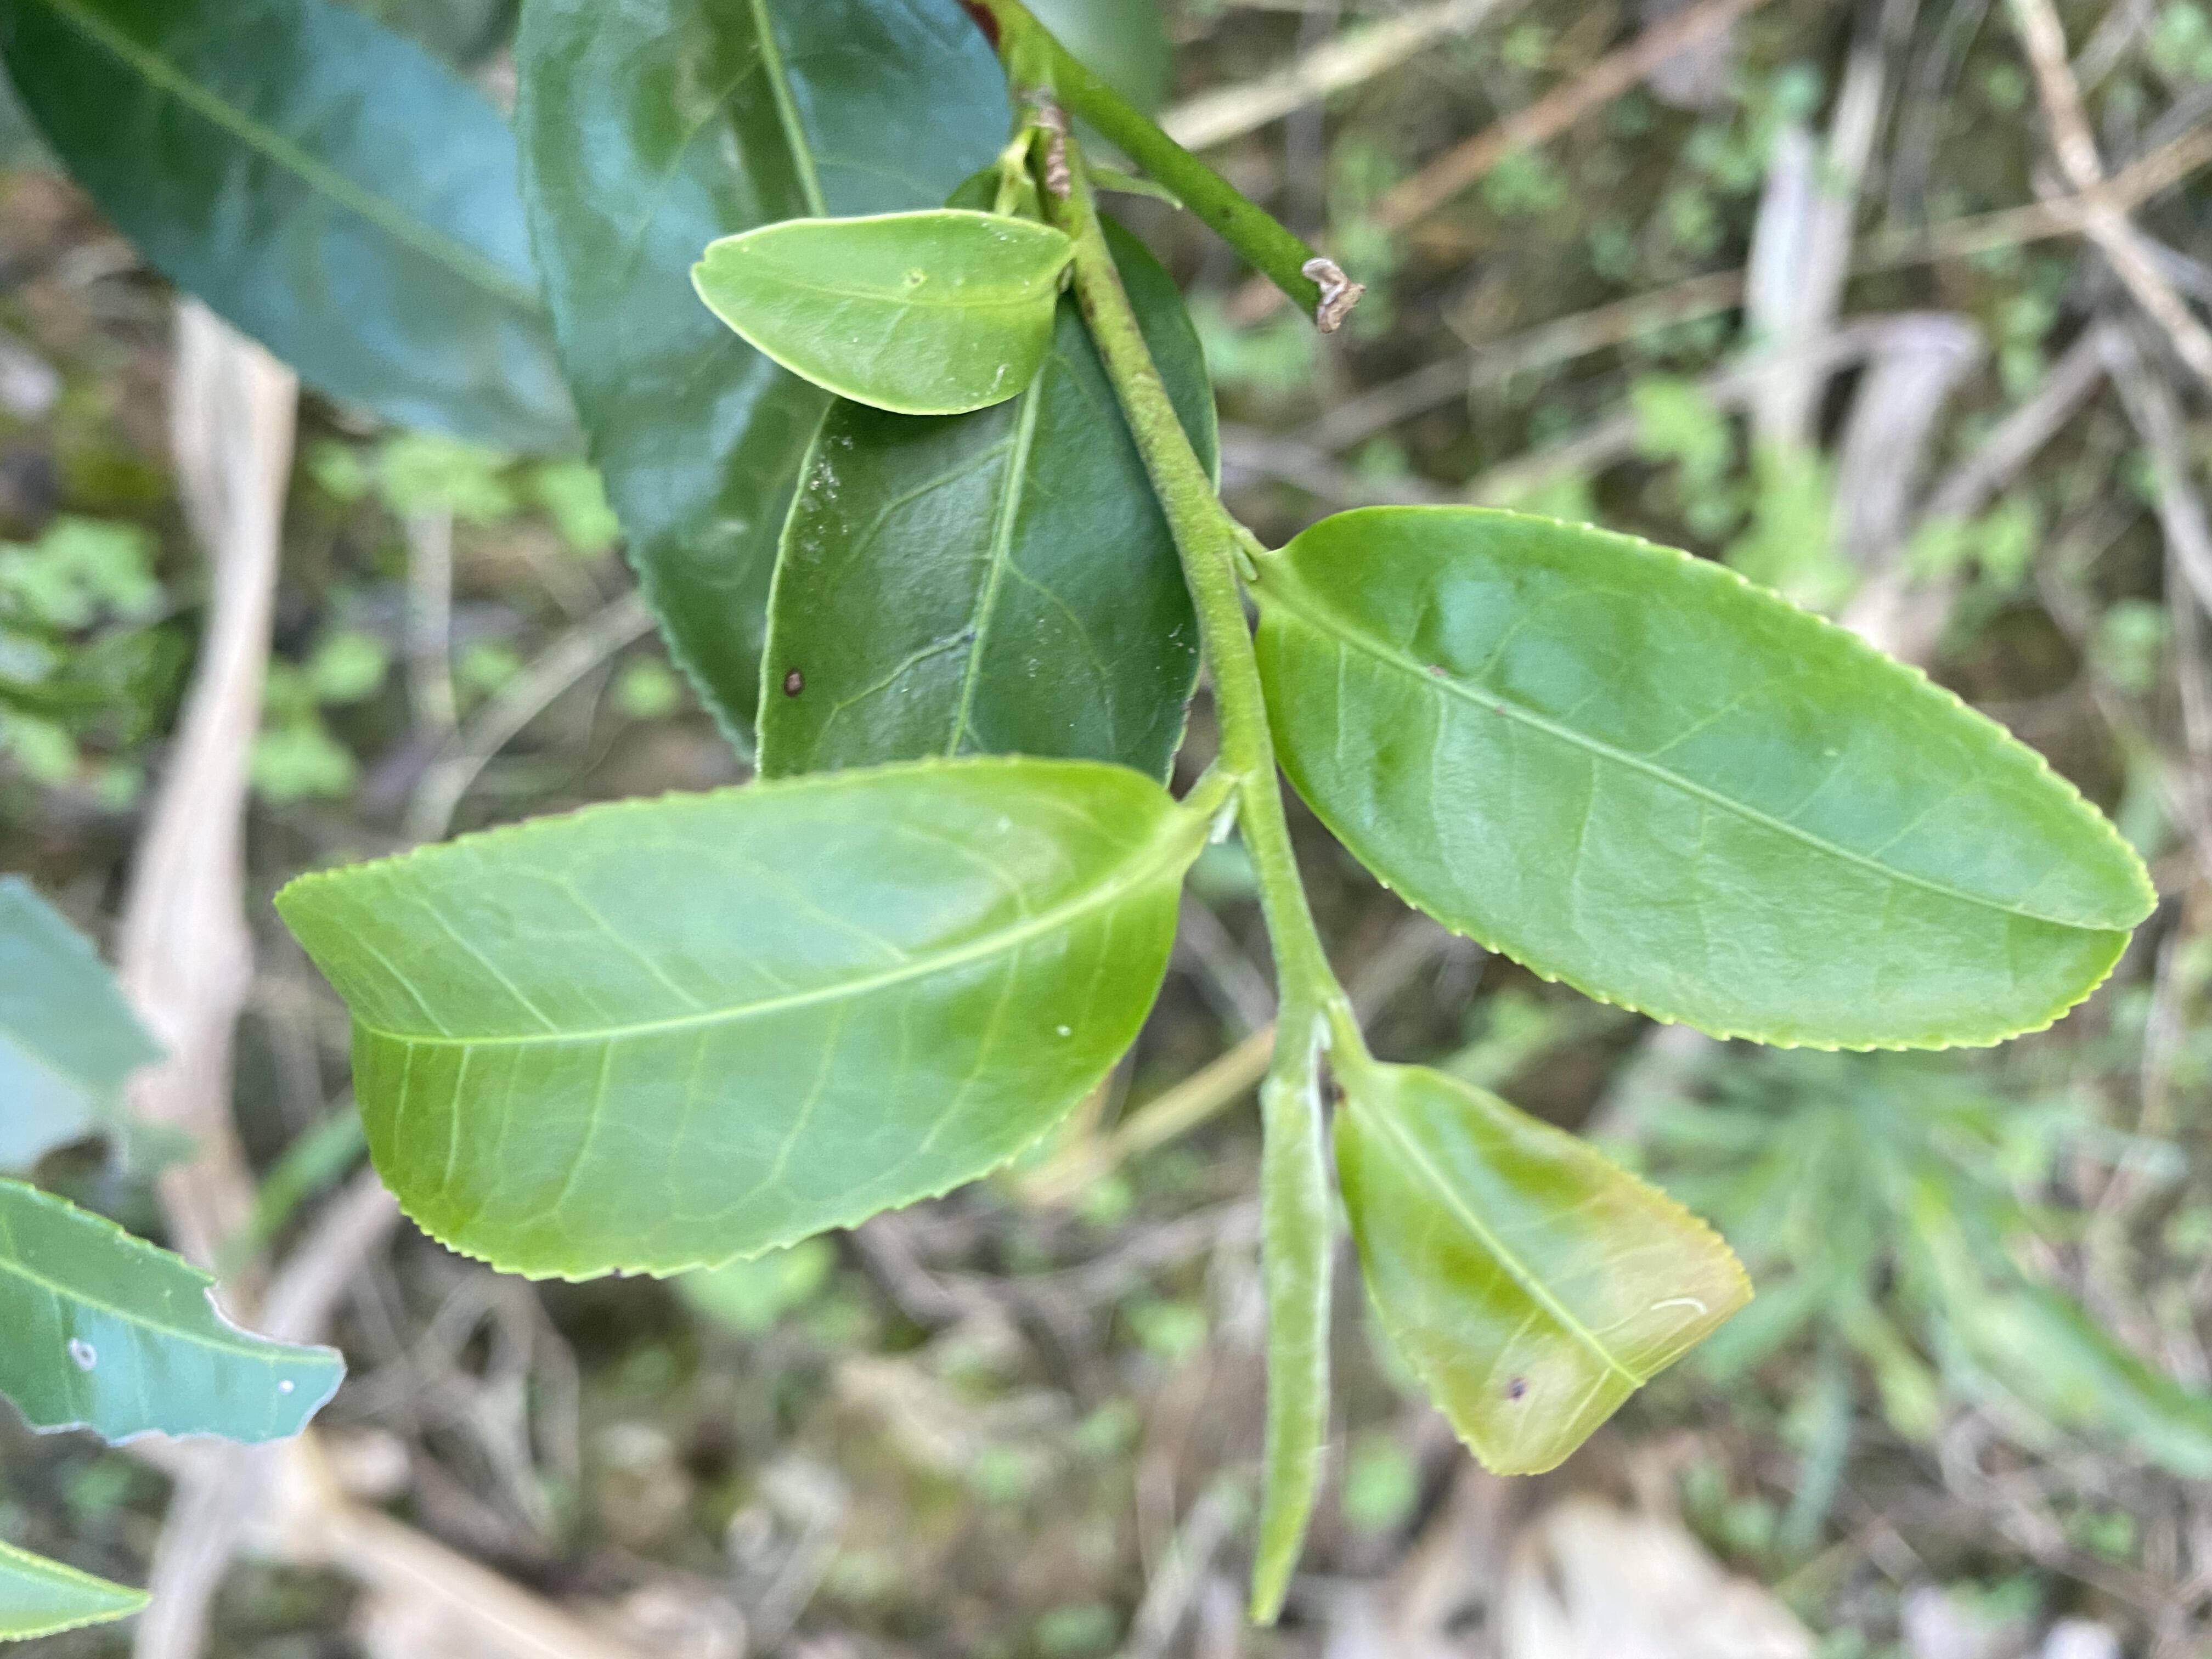healthy: (1252, 505, 2160, 1056), (272, 753, 1183, 1290)
tanju_low: (751, 160, 1224, 774), (1327, 1065, 1757, 1478)
